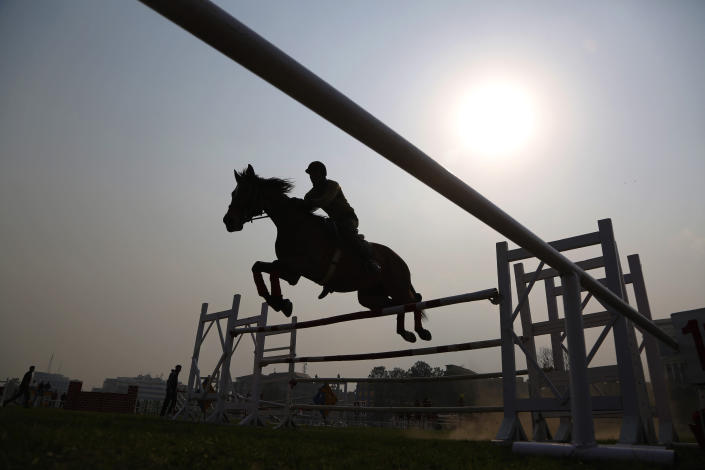human: (298, 155, 371, 305)
